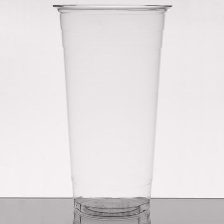glass: (48, 0, 195, 224)
